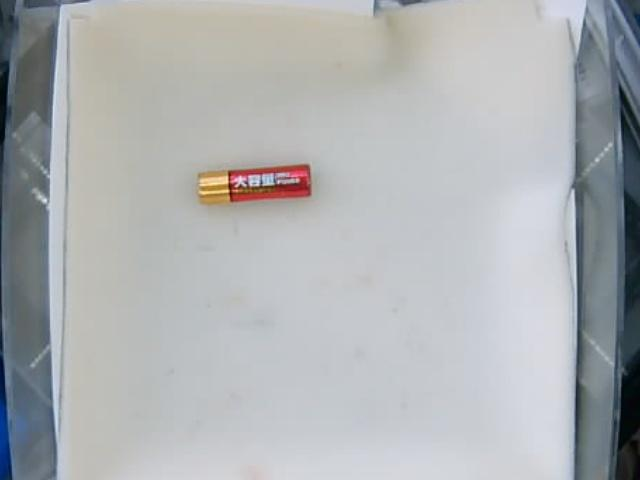Battery: (194, 166, 314, 202)
